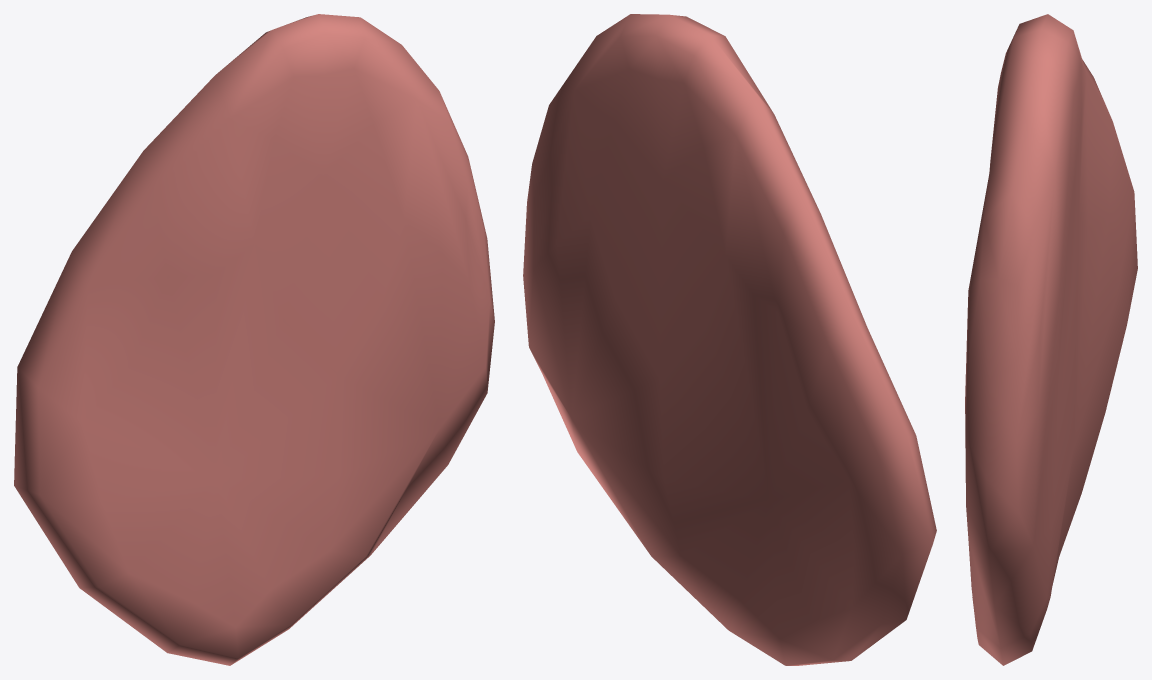
3 renders of one model, left to right at view 1: azimuth 30°, elevation 25°; view 2: azimuth 150°, elevation 25°; view 3: azimuth 270°, elevation 25°, orthographic. The views are drawn at different scales.
Visible parts, largest first — view 1: ZA_2a6614003357e63a; view 2: ZA_2a6614003357e63a; view 3: ZA_2a6614003357e63a.
Boxes of the visible parts, <box> form: ZA_2a6614003357e63a: <box>14,14,494,665</box>; ZA_2a6614003357e63a: <box>523,14,936,665</box>; ZA_2a6614003357e63a: <box>965,14,1137,665</box>.
Size of the model in its own units: 0.00343 by 0.00466 by 0.00107.
